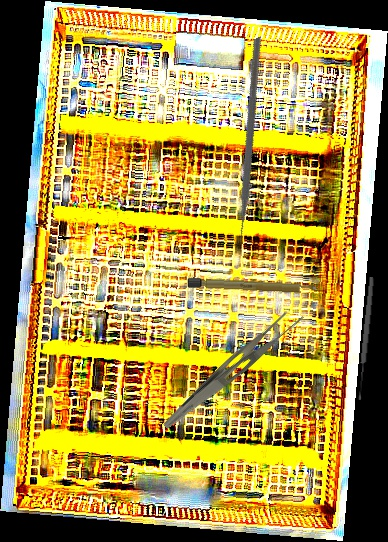Chopper: (145, 36, 340, 251)
Dressing Forceps: (161, 299, 307, 444)
Scalpel Handle: (186, 277, 320, 295)
Surgical Spoon: (355, 276, 376, 401)
